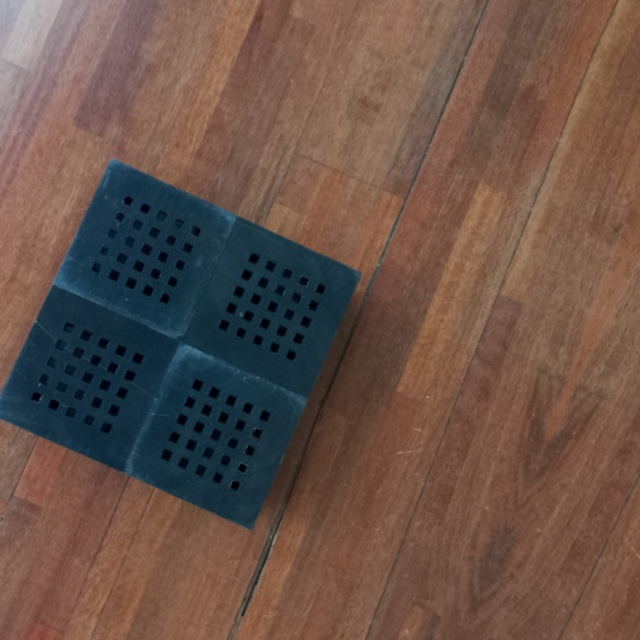pallet: (0, 145, 386, 545)
